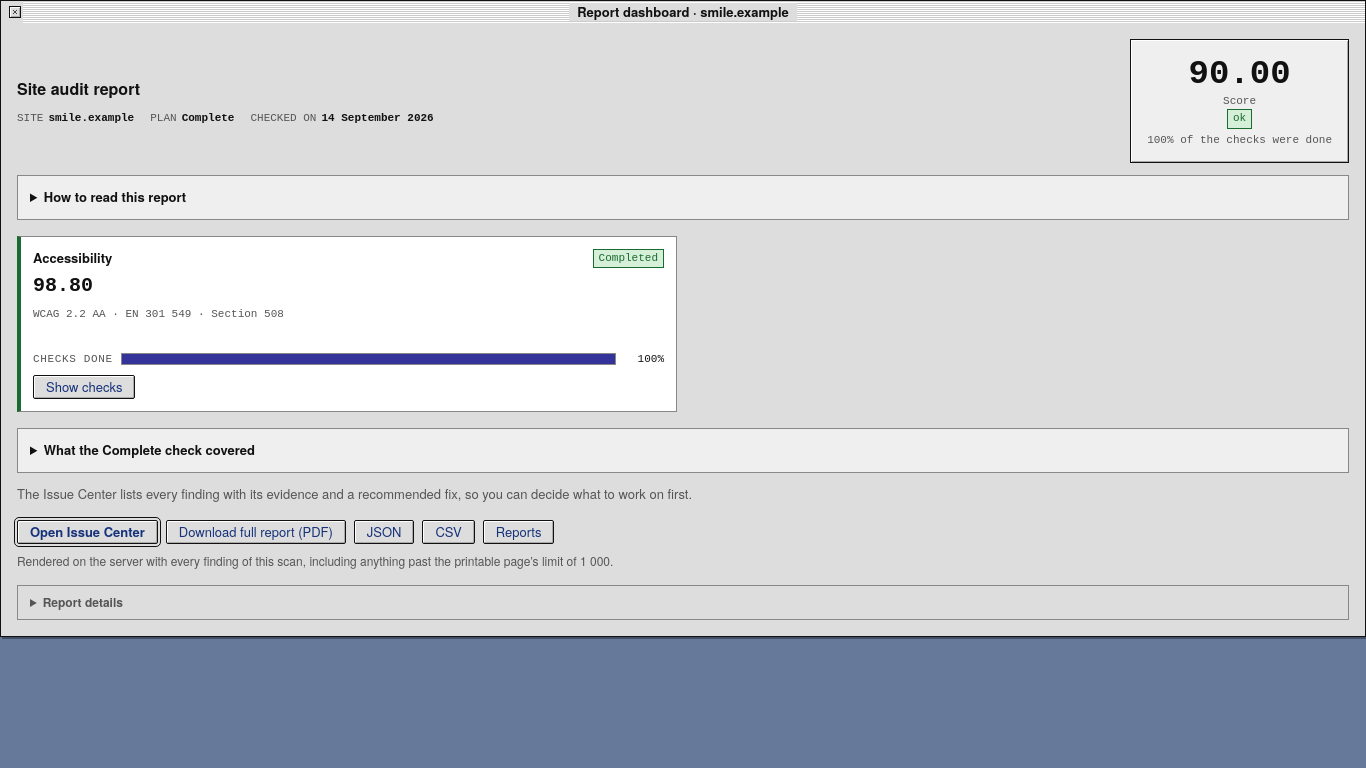
Test case: a card whose pages rendered without their own resources › says nothing extra when every rendered page got what it asked for
Check: the heading "Site audit report" is shown, box x1=17 y1=77 x2=140 y2=100
Click the text "Accessibility" at {"x": 347, "y": 324}, box x1=17 y1=236 x2=677 y2=412
(page scrolled)
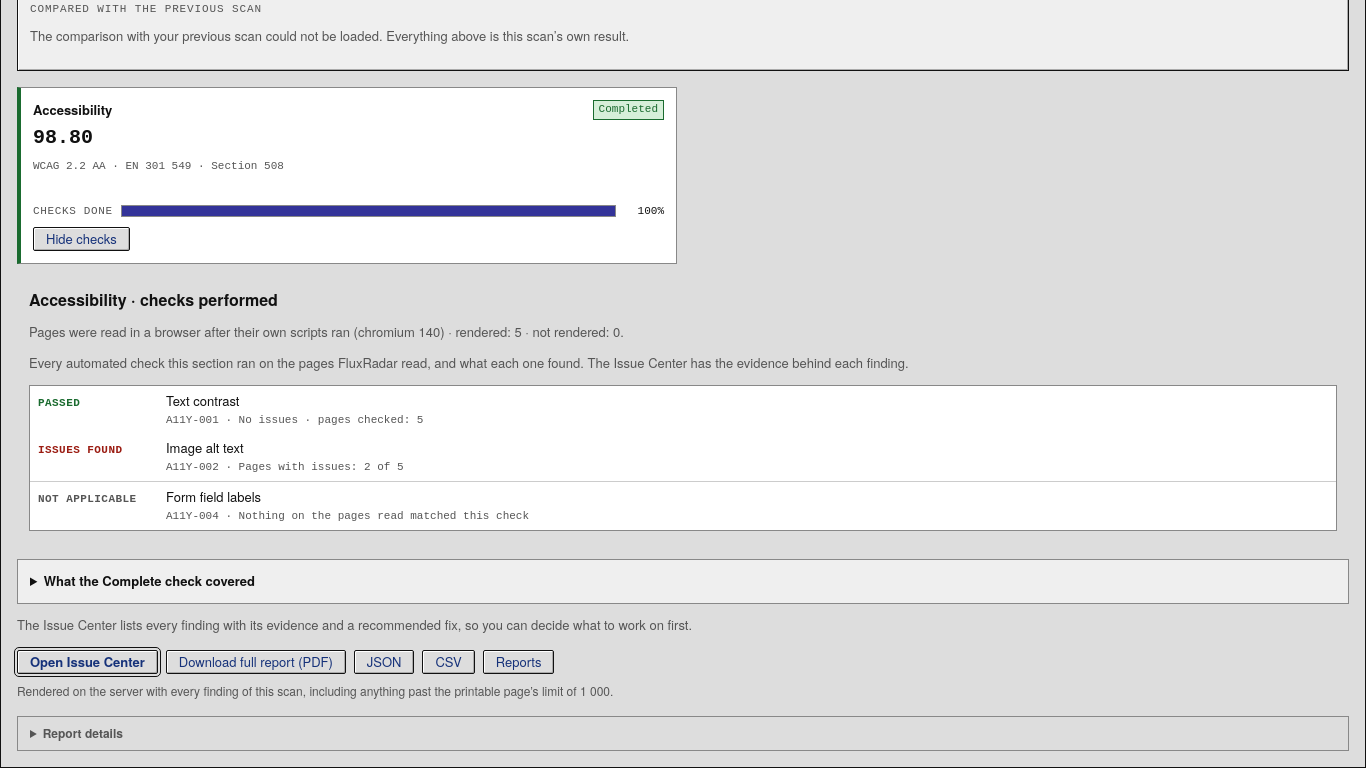
Check: the element "Accessibility · checks performed" does not show "asked for resources", box x1=17 y1=276 x2=1349 y2=543
Check: the element "Accessibility · checks performed" shows "rendered: 5", box x1=29 y1=322 x2=624 y2=341
